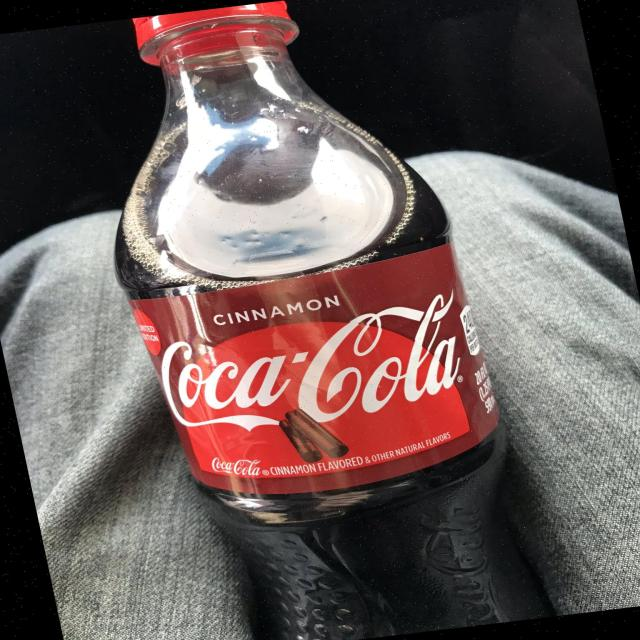coca-cola: (68, 0, 560, 640)
